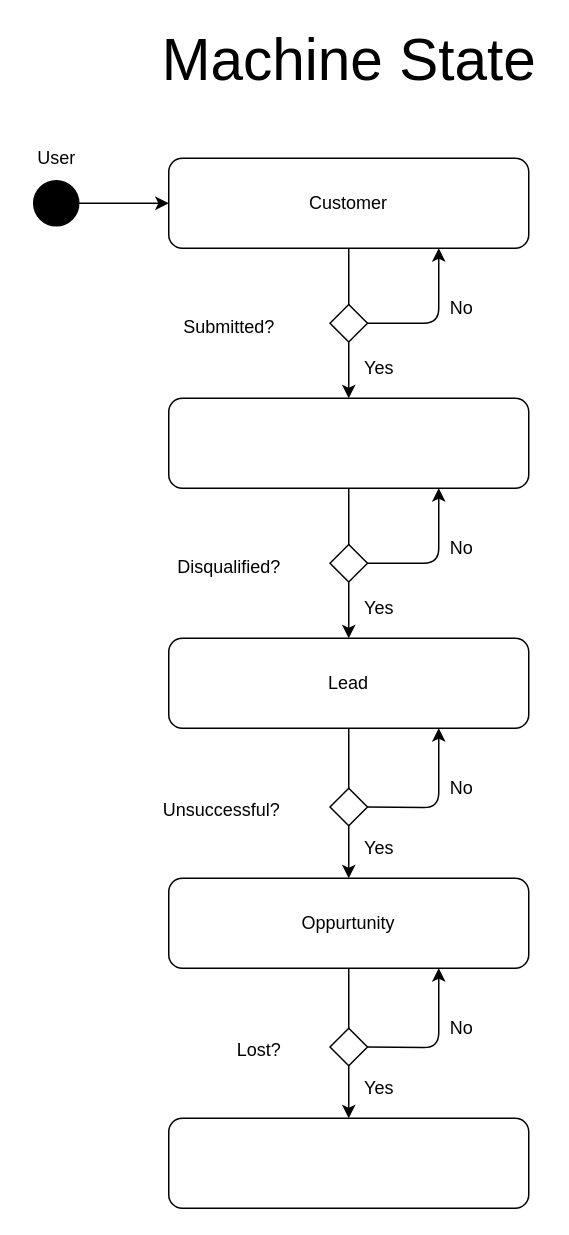
Image size: 569x1235. Some labels were removed from this diagram. The box of each missing label's shape, as (x1, y1, x2, y2) in pixels:
Closed (Won): (167, 1117, 529, 1208)
Prospect: (167, 397, 529, 488)
